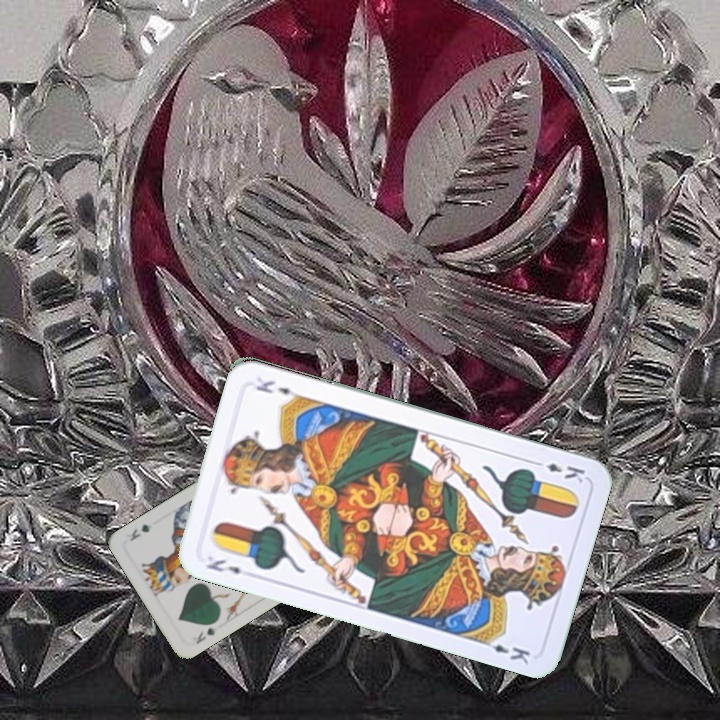EK: (529, 457, 588, 485), (203, 555, 244, 577)
GK: (192, 623, 220, 647)
